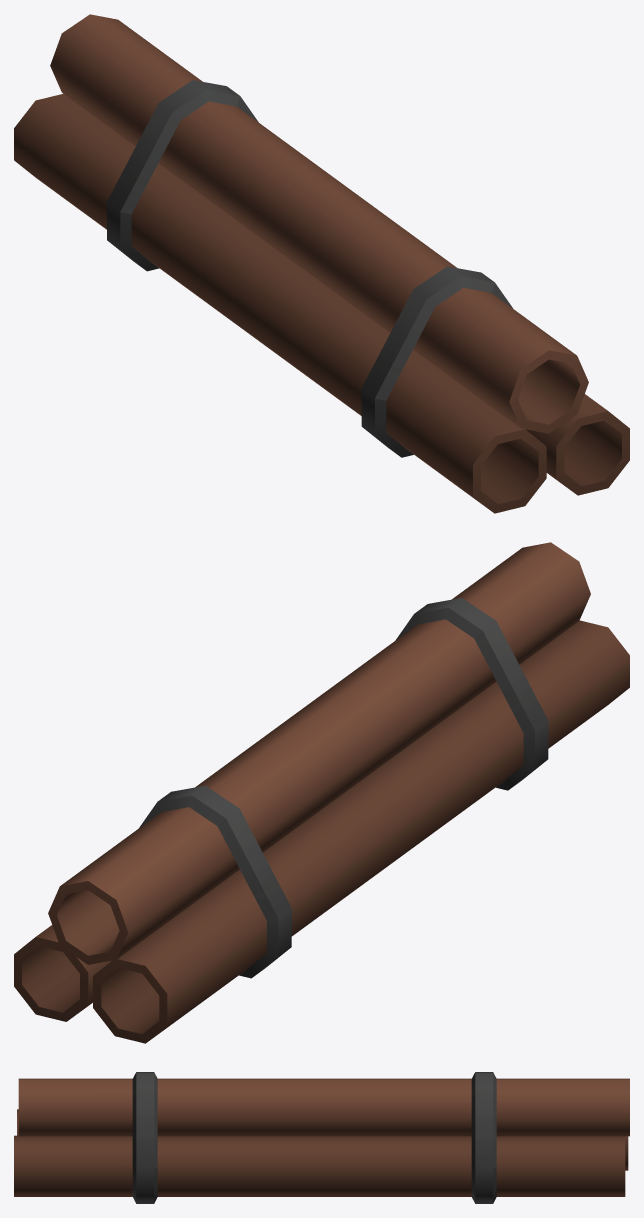
Rendered from Pipes_C_1_1.glb.
The picture shows the model from 3 angles, top to bottom: view 1: azimuth 30°, elevation 25°; view 2: azimuth 150°, elevation 25°; view 3: azimuth 270°, elevation 25°; orthographic projection. The views are drawn at different scales.
Parts seen in each view (by area): view 1: Pipes_C_1_1; view 2: Pipes_C_1_1; view 3: Pipes_C_1_1.
Part boxes in pixels (x1,y1,x2,y2): Pipes_C_1_1: (14,14,629,513); Pipes_C_1_1: (14,542,629,1043); Pipes_C_1_1: (14,1072,629,1203).
Size of the model in its own units: 1.19 by 1.11 by 5.55.
1 material, 1 textured.
